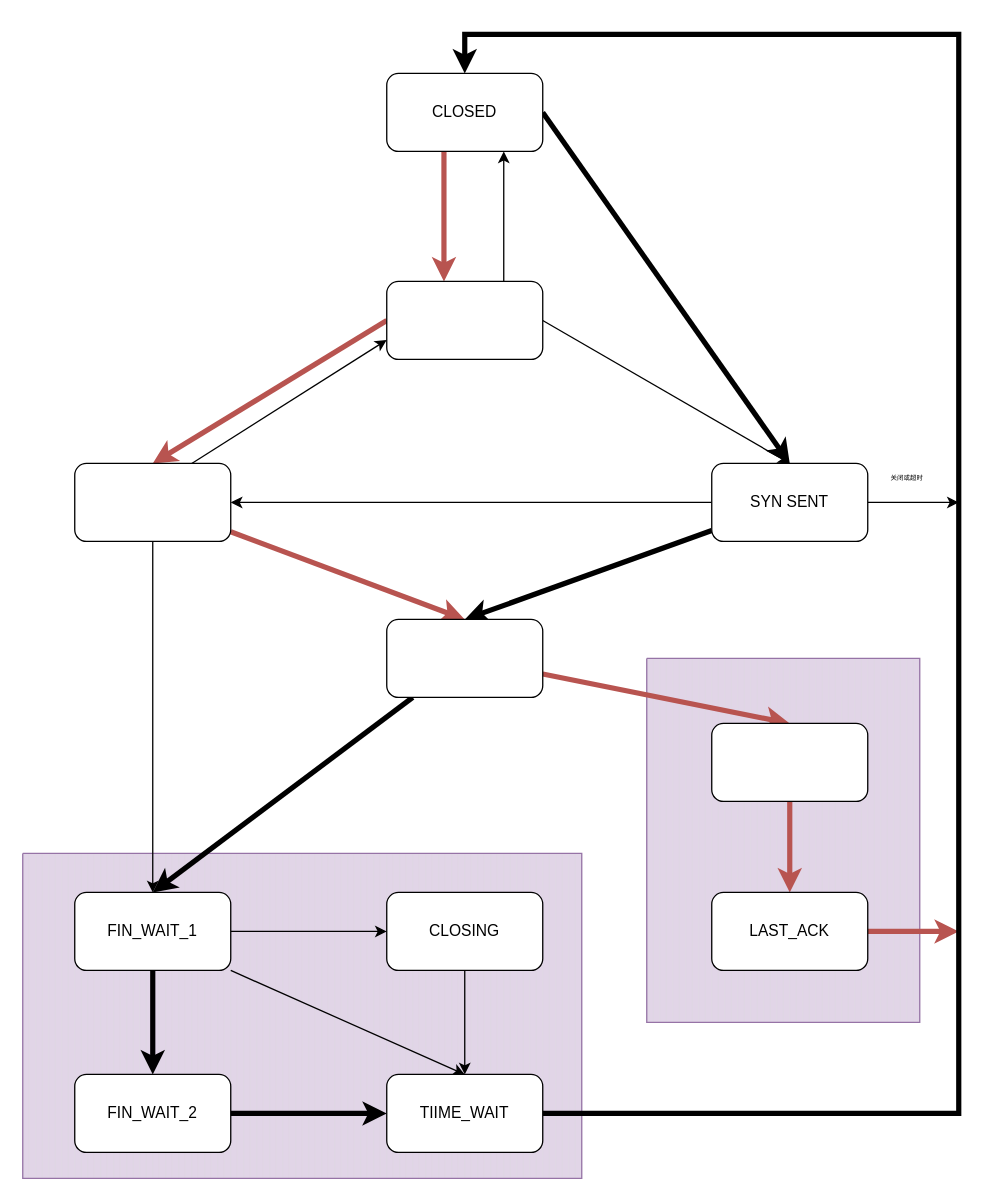
Some shapes in this 994 by 1201 pixel diagram are drawn without their labels. Each missing label, with the centre of its shape:
CLOSE_WAIT: point (789, 761)
ESTABLISHED: point (464, 657)
LISTEN: point (464, 319)
SYN RCVD: point (152, 501)
